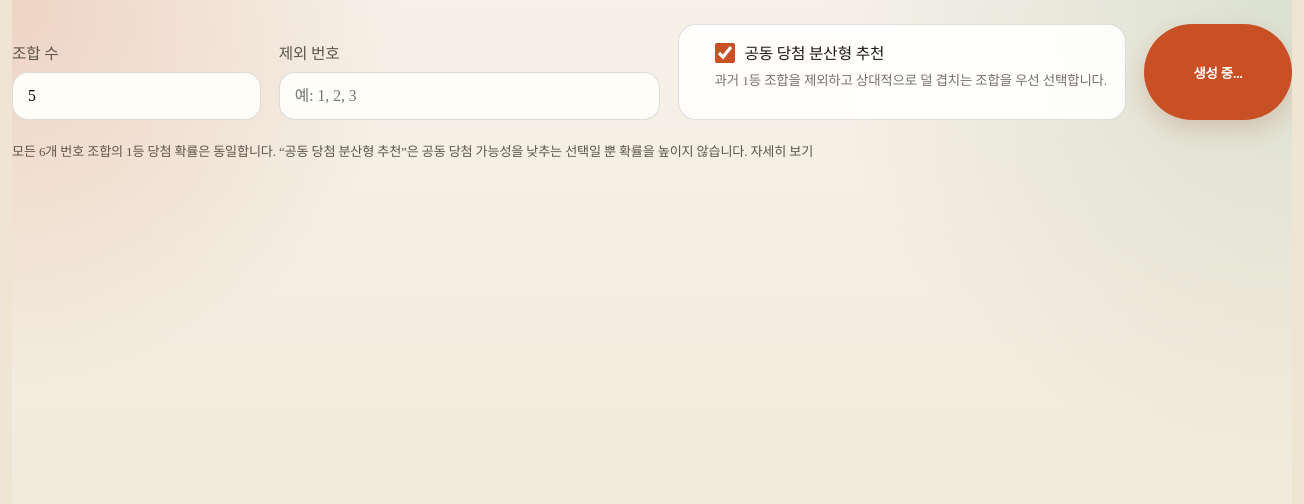
번호 추천 화면 › 무시된 제외 숫자에 대해 경고한다
The image size is (1304, 504).
Step 1. Type "3, abc, 99" into the field → (470, 96), box top-left (279, 72), bottom-right (660, 120)
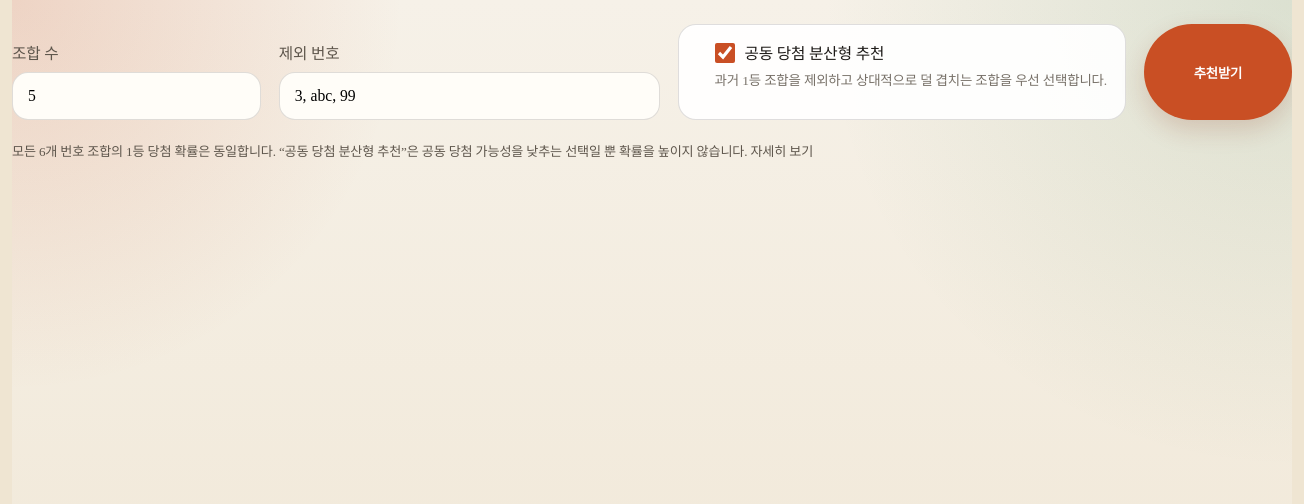
Step 2. Submit the form, box top-left (12, 24), bottom-right (1292, 162)
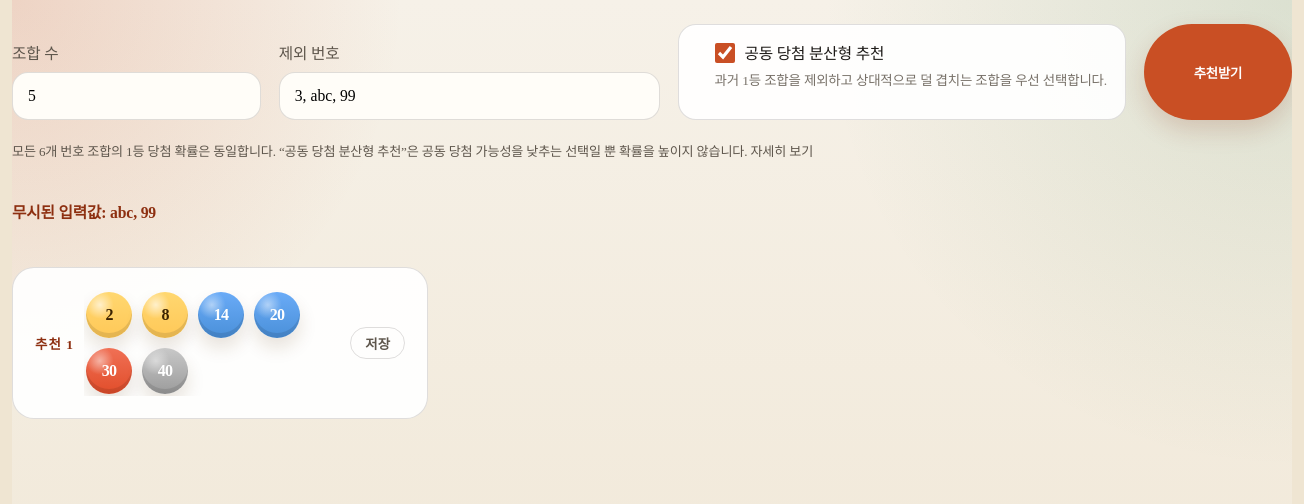
Expected: the message shows "abc", top-left (12, 204), bottom-right (156, 221)
